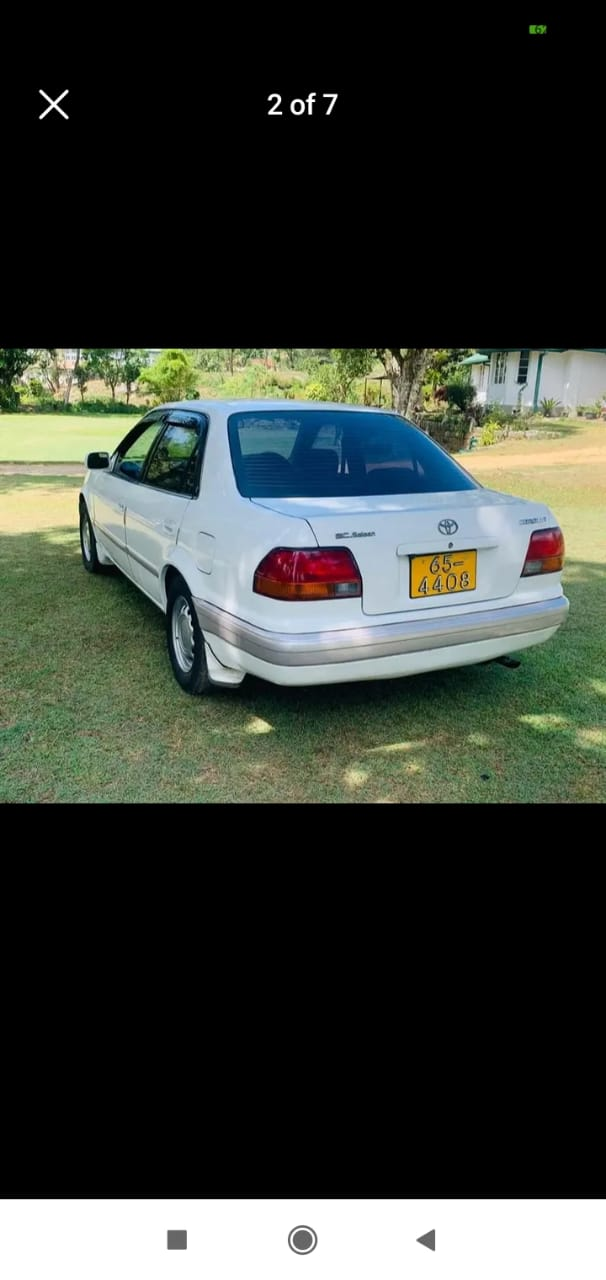number_plate: (404, 553, 478, 597)
